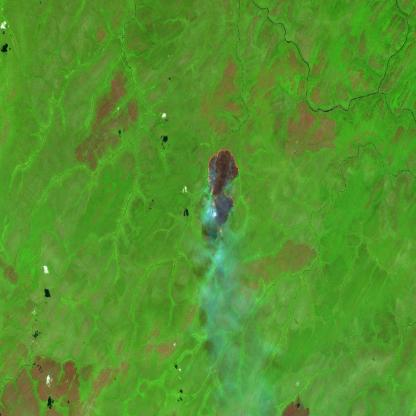fire: (204, 146, 244, 236)
